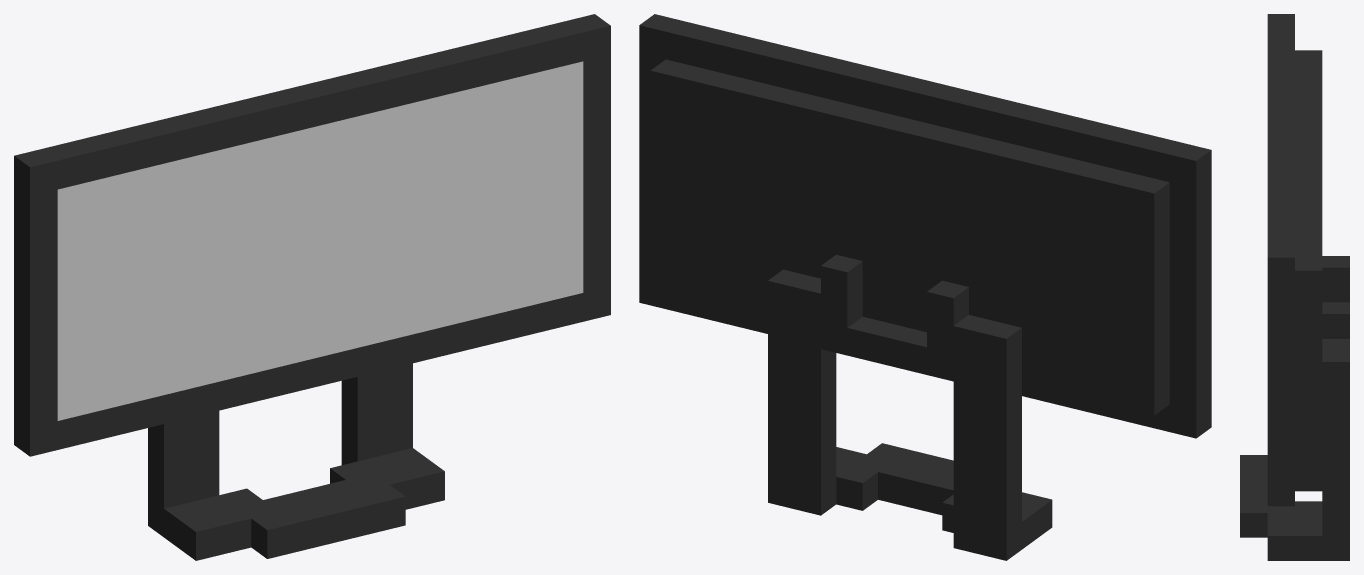
The model's file is Decor-9.obj.
3 views of the same model, side by side, from view 1: azimuth 30°, elevation 25°; view 2: azimuth 150°, elevation 25°; view 3: azimuth 270°, elevation 25° (orthographic). The views are drawn at different scales.
Size of the model in its own units: 2.1 by 1.5 by 0.4.
1 material, 1 textured.
